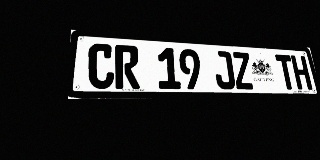1: (156, 47, 181, 89)
9: (178, 49, 203, 89)
C: (88, 43, 114, 89)
H: (290, 55, 313, 90)
J: (212, 51, 236, 89)
R: (115, 45, 140, 89)
T: (275, 54, 297, 90)
Z: (231, 52, 254, 89)
